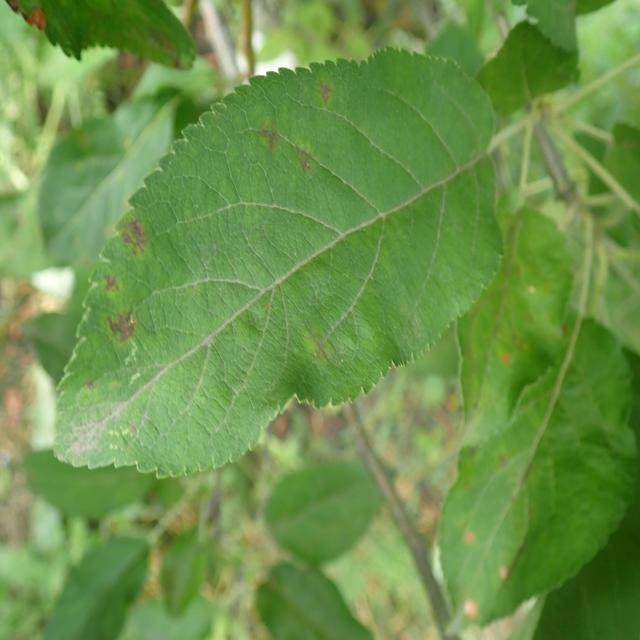scab: (68, 71, 372, 393)
